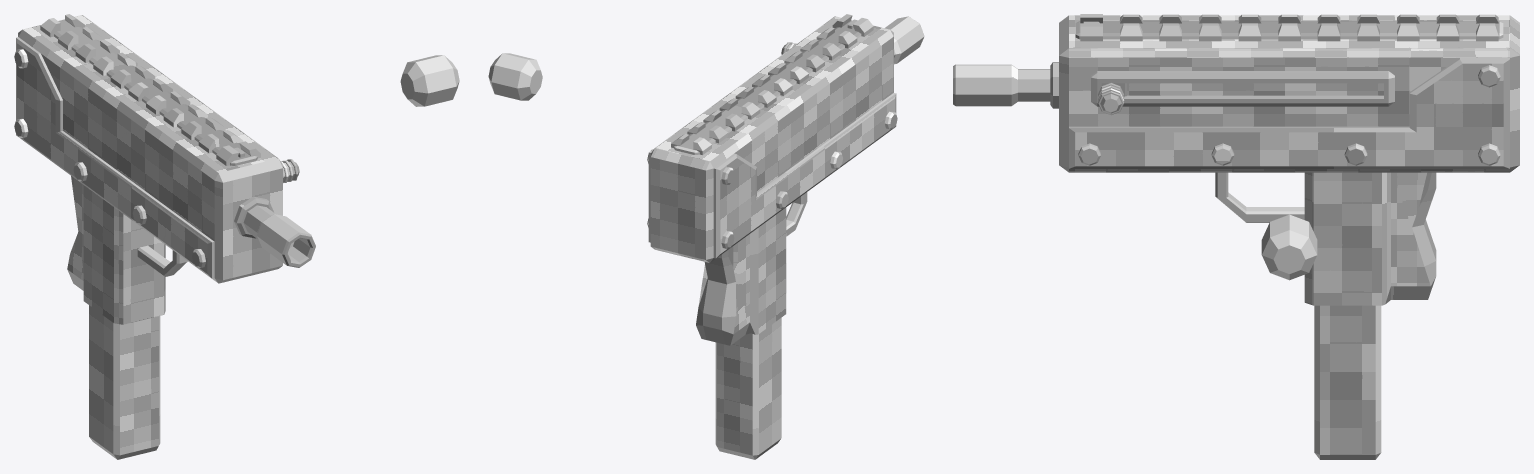
Rendered from Mini_Mack_text.fbx.
The picture shows the model from 3 angles, left to right: view 1: azimuth 30°, elevation 25°; view 2: azimuth 150°, elevation 25°; view 3: azimuth 270°, elevation 25°; orthographic projection. The views are drawn at different scales.
Visible parts, largest first — view 1: Cube, Cylinder.001; view 2: Cube, Cylinder.001; view 3: Cube, Cylinder.001.
Part boxes in pixels (left/top/right/bottom): Cube: left=14, top=14, right=315, bottom=459; Cylinder.001: left=400, top=55, right=459, bottom=106; Cube: left=647, top=14, right=924, bottom=459; Cylinder.001: left=488, top=53, right=542, bottom=100; Cube: left=953, top=14, right=1519, bottom=459; Cylinder.001: left=1261, top=214, right=1317, bottom=280.
Size of the model in its own units: 567 by 598 by 716.
